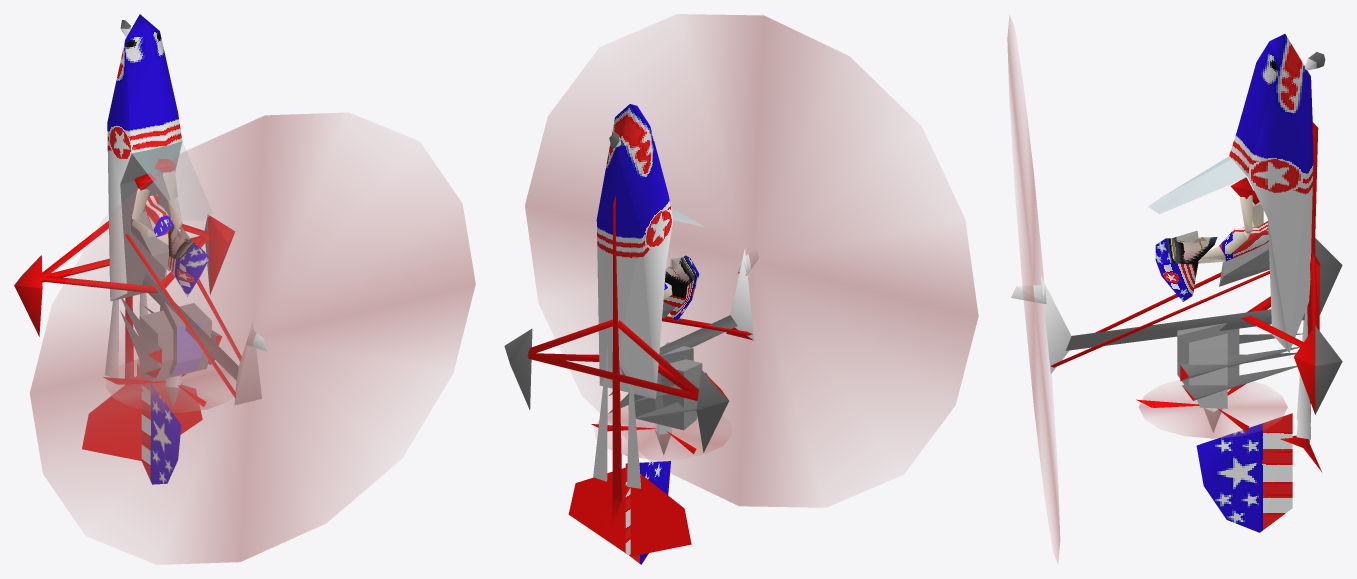
Rendered from gyro-b.glb.
3 renders of one model, left to right at view 1: azimuth 30°, elevation 25°; view 2: azimuth 150°, elevation 25°; view 3: azimuth 270°, elevation 25°, orthographic. The views are drawn at different scales.
Visible parts, largest first — view 1: gyro-b; view 2: gyro-b; view 3: gyro-b.
Boxes of the visible parts, left/top/right/bottom form: gyro-b: left=14, top=14, right=475, bottom=564; gyro-b: left=504, top=14, right=978, bottom=564; gyro-b: left=1007, top=15, right=1342, bottom=562.
Size of the model in its own units: 387 by 391 by 233.
16 materials, 16 textured.
